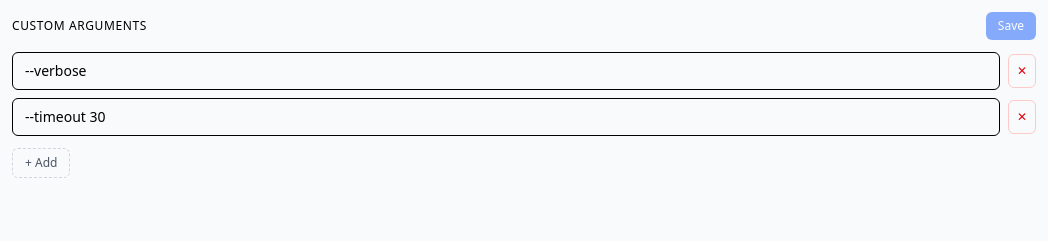
Test: CustomArgsTab › Add button adds new row
Click the button with aria-label "Add argument" at (41, 163), box x1=12 y1=148 x2=70 y2=178
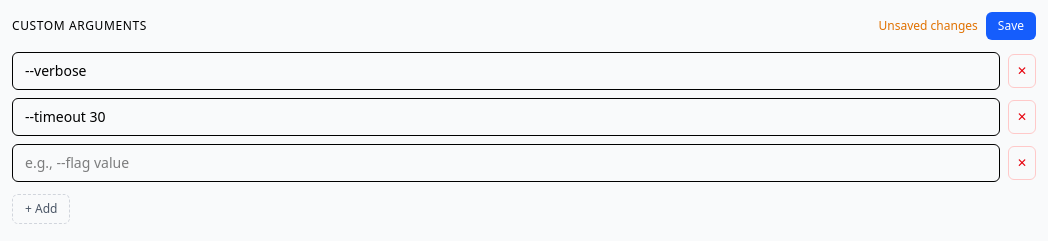
expect the number of fields is 3: met, box x1=12 y1=52 x2=1000 y2=90; x1=12 y1=98 x2=1000 y2=136; x1=12 y1=144 x2=1000 y2=182
